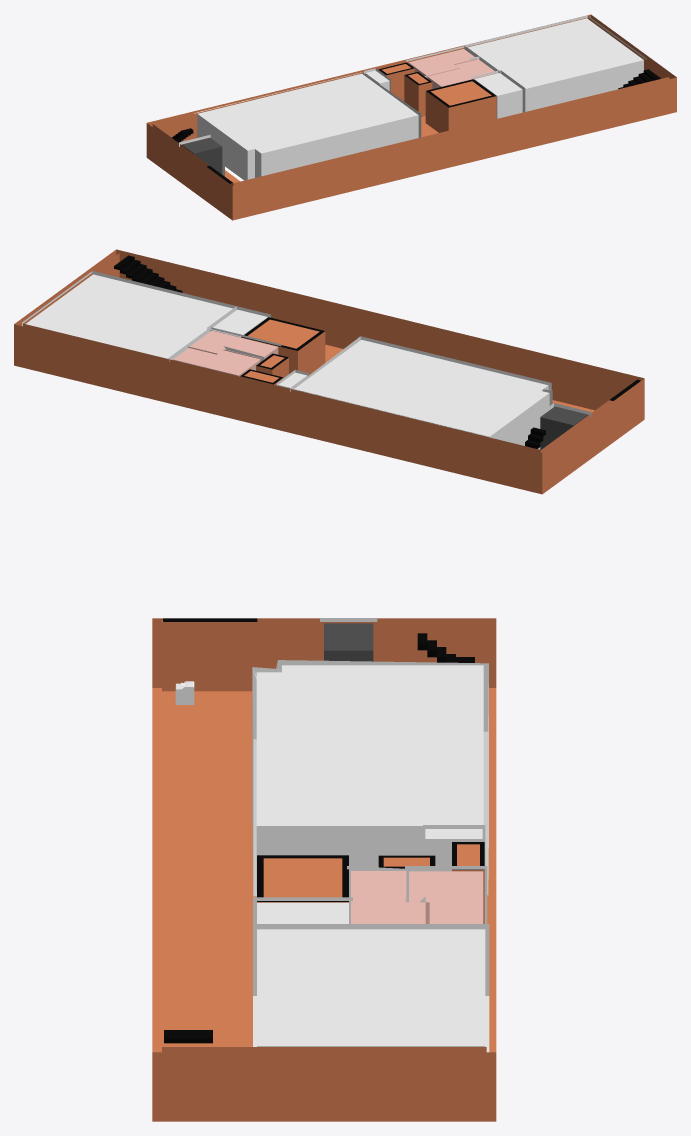
3 views of the same model, one above another, from view 1: azimuth 30°, elevation 25°; view 2: azimuth 150°, elevation 25°; view 3: azimuth 270°, elevation 25° (orthographic). The views are drawn at different scales.
Visible parts, largest first — view 1: object, room_2_B1_2, room_2_B1_1, object_line.006, トイレ_2_B1_1, トイレ_2_B1_2, エレベーター_2_B1_1, object_line.002, object_line.005, 階段_2_B1_1; view 2: object, room_2_B1_2, room_2_B1_1, トイレ_2_B1_1, トイレ_2_B1_2, object_line.002, object_line.006, エレベーター_2_B1_1, 階段_2_B1_1, object_line.005; view 3: object, room_2_B1_2, room_2_B1_1, トイレ_2_B1_1, object_line.002, トイレ_2_B1_2, object_line.006, object_line.005, エレベーター_2_B1_1, object_line.007.
Part boxes in pixels (x1,y1,x2,y2): object: (146,14,676,220); room_2_B1_2: (197,73,418,180); room_2_B1_1: (467,18,643,111); object_line.006: (471,70,525,118); トイレ_2_B1_1: (408,49,476,78); トイレ_2_B1_2: (427,59,497,88); エレベーター_2_B1_1: (182,137,222,174); object_line.002: (194,72,421,181); object_line.005: (464,15,646,59); 階段_2_B1_1: (618,69,660,89); object: (14,249,644,494); room_2_B1_2: (294,339,549,445); room_2_B1_1: (25,274,232,359); トイレ_2_B1_1: (173,348,260,376); トイレ_2_B1_2: (189,330,278,361); object_line.002: (290,336,552,405); object_line.006: (207,306,270,337); エレベーター_2_B1_1: (540,406,588,449); 階段_2_B1_1: (114,255,182,292); object_line.005: (22,271,236,326); object: (152,618,496,1121); room_2_B1_2: (256,665,483,890); room_2_B1_1: (257,929,485,1046); トイレ_2_B1_1: (409,871,483,923); object_line.002: (252,660,488,896); トイレ_2_B1_2: (351,871,425,923); object_line.006: (253,897,352,997); object_line.005: (253,924,489,1052); エレベーター_2_B1_1: (324,623,373,661); object_line.007: (423,825,485,865).
Size of the model in its own units: 3 by 0.1948 by 0.8865.
